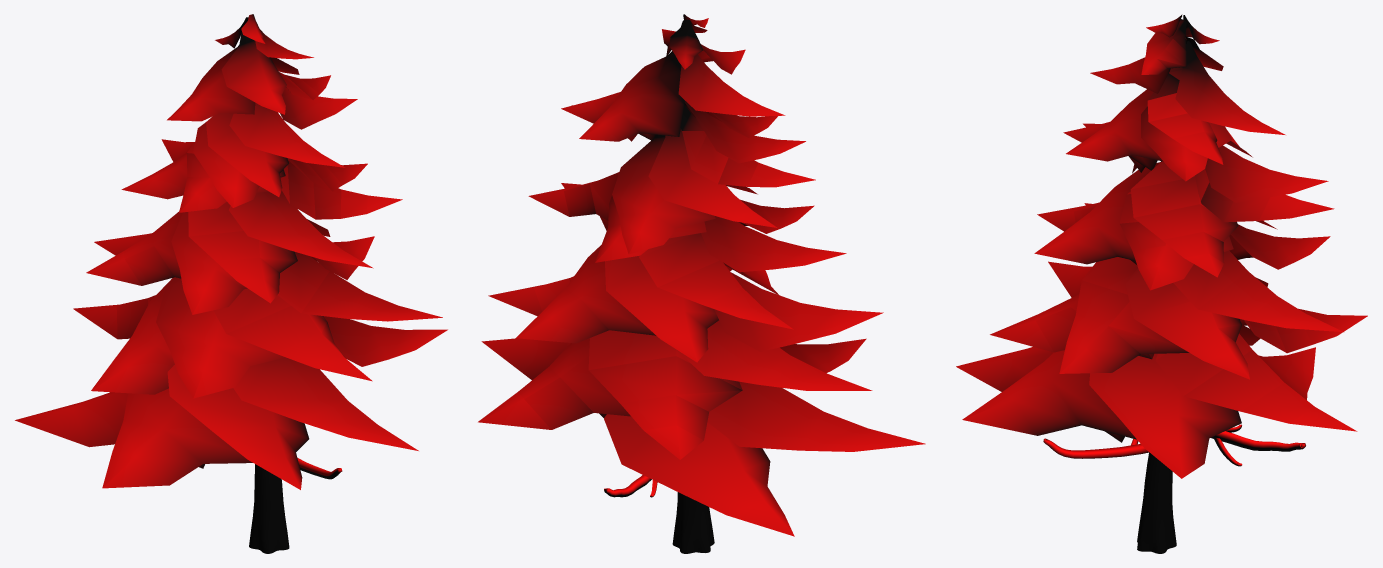
The model's file is pine2.glb.
3 views of the same model, side by side, from view 1: azimuth 30°, elevation 25°; view 2: azimuth 150°, elevation 25°; view 3: azimuth 270°, elevation 25° (orthographic). The views are drawn at different scales.
Visible parts, largest first — view 1: Pine_2; view 2: Pine_2; view 3: Pine_2.
Boxes of the visible parts, box(x1,y1,x2,y2) form: Pine_2: box(15, 14, 447, 553); Pine_2: box(478, 14, 925, 553); Pine_2: box(956, 14, 1367, 553).
Bounding box in the file's own units: 5.73 × 7.38 × 5.22.
